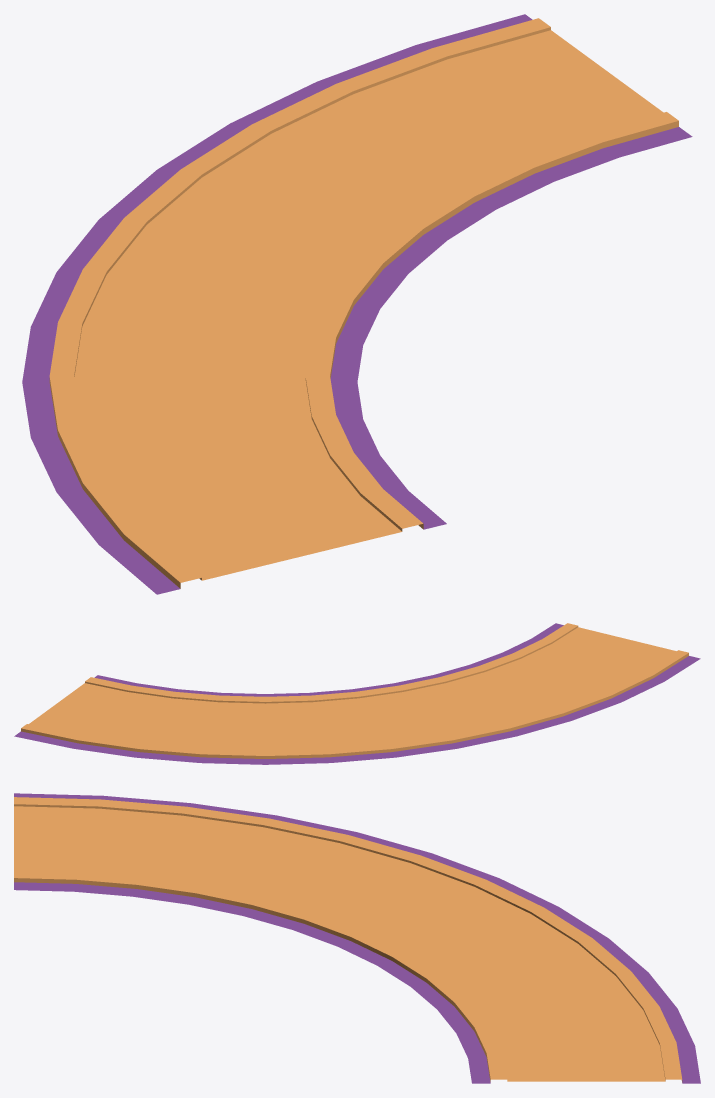
File: roadCornerLarger.glb
3 renders of one model, top to bottom at view 1: azimuth 30°, elevation 25°; view 2: azimuth 150°, elevation 25°; view 3: azimuth 270°, elevation 25°, orthographic. The views are drawn at different scales.
Parts seen in each view (by area): view 1: roadCornerLarger(Clone); view 2: roadCornerLarger(Clone); view 3: roadCornerLarger(Clone).
Boxes of the visible parts, x1=… form: roadCornerLarger(Clone): x1=22, y1=14, x2=692, y2=594; roadCornerLarger(Clone): x1=14, y1=623, x2=700, y2=764; roadCornerLarger(Clone): x1=14, y1=793, x2=700, y2=1083.
Size of the model in its own units: 3 by 0.02 by 3.
